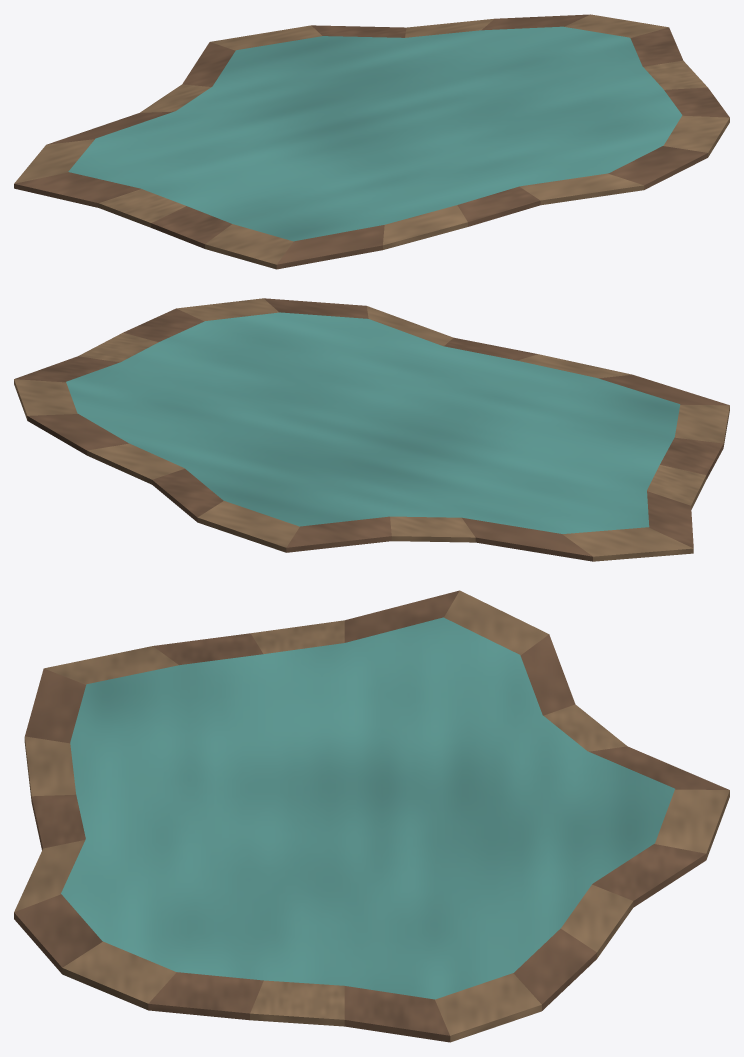
File: puddle_03.fbx
The picture shows the model from 3 angles, top to bottom: view 1: azimuth 30°, elevation 25°; view 2: azimuth 150°, elevation 25°; view 3: azimuth 270°, elevation 25°; orthographic projection. The views are drawn at different scales.
Visible parts, largest first — view 1: puddle_03; view 2: puddle_03; view 3: puddle_03.
Boxes of the visible parts, box(x1,y1,x2,y2) form: puddle_03: box(14, 14, 729, 269); puddle_03: box(14, 298, 729, 561); puddle_03: box(14, 590, 729, 1042).
Bounding box in the file's own units: 262 × 3.5 × 178.
Materials: 2 (2 with a texture image).
